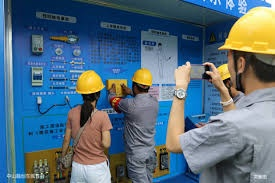yellow: (220, 6, 275, 90), (75, 66, 105, 105), (127, 67, 154, 97)
